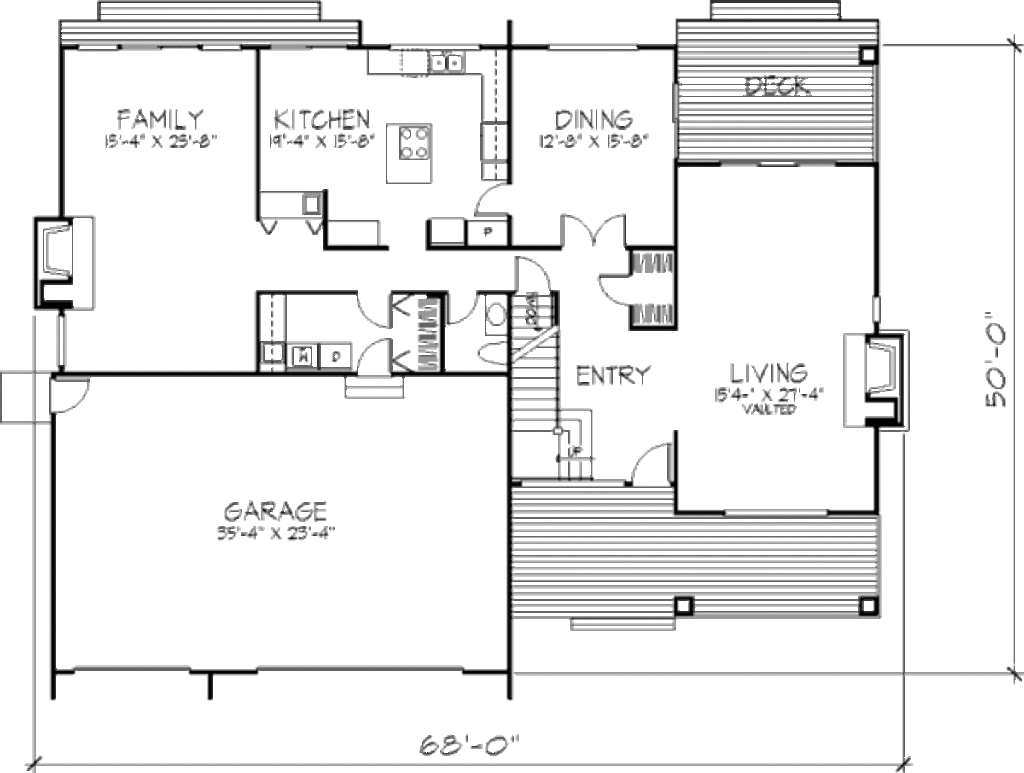door: (344, 333, 407, 397), (550, 210, 632, 247), (507, 247, 561, 296), (624, 439, 673, 490), (348, 282, 394, 335), (47, 375, 93, 420), (437, 286, 479, 328), (468, 182, 516, 218), (600, 267, 636, 309)
kitchen_bar: (379, 115, 436, 188)
large_sink: (479, 340, 508, 368)
small_sink: (483, 292, 509, 342)
stairs: (509, 294, 594, 481)
twin_sink: (421, 49, 473, 82)
window: (717, 504, 830, 520), (546, 44, 650, 55), (665, 74, 681, 123), (870, 292, 885, 325)
